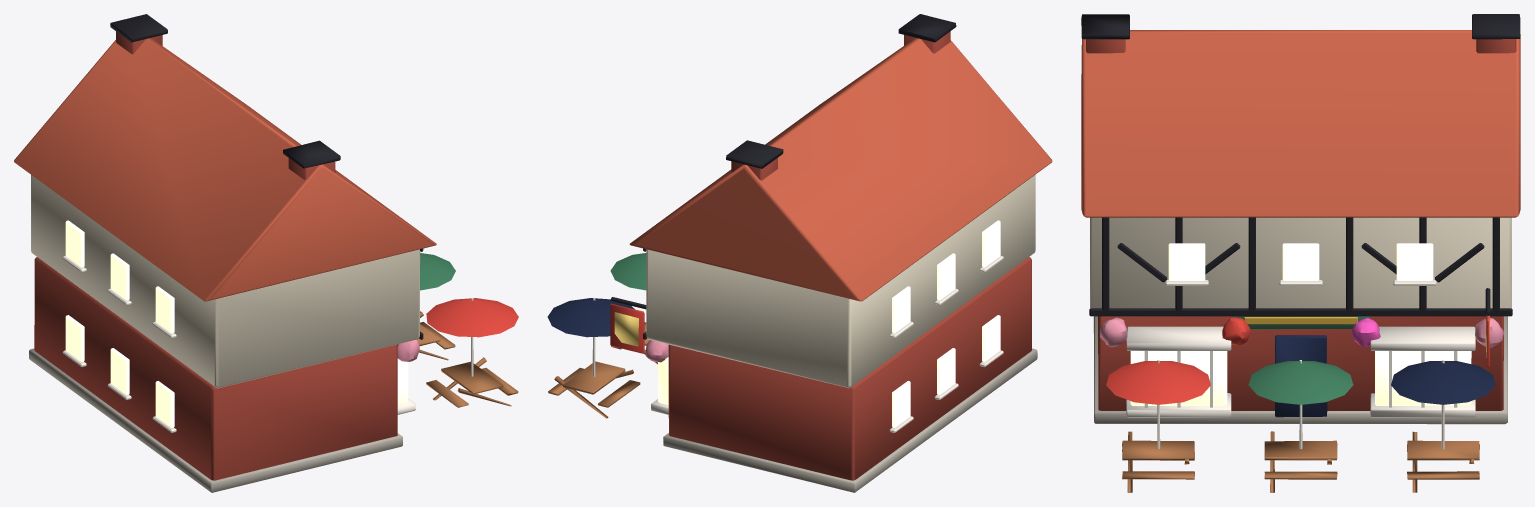
Rendered from village_inn.glb.
3 renders of one model, left to right at view 1: azimuth 30°, elevation 25°; view 2: azimuth 150°, elevation 25°; view 3: azimuth 270°, elevation 25°, orthographic. The views are drawn at different scales.
Visible parts, largest first — view 1: village_inn; view 2: village_inn; view 3: village_inn.
Boxes of the visible parts, x1,y1,x2,y2 form: village_inn: [14, 14, 518, 492]; village_inn: [547, 14, 1052, 492]; village_inn: [1081, 14, 1520, 492].
Size of the model in its own units: 10.94 by 9.58 by 10.8.
1 material, 1 textured.
